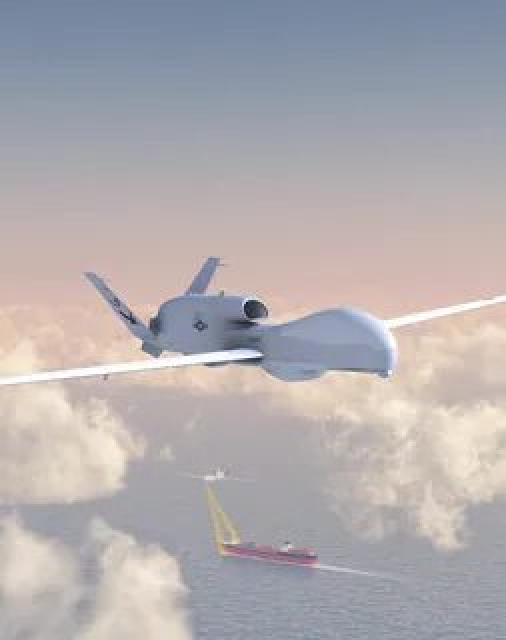military drone: (0, 256, 506, 385)
